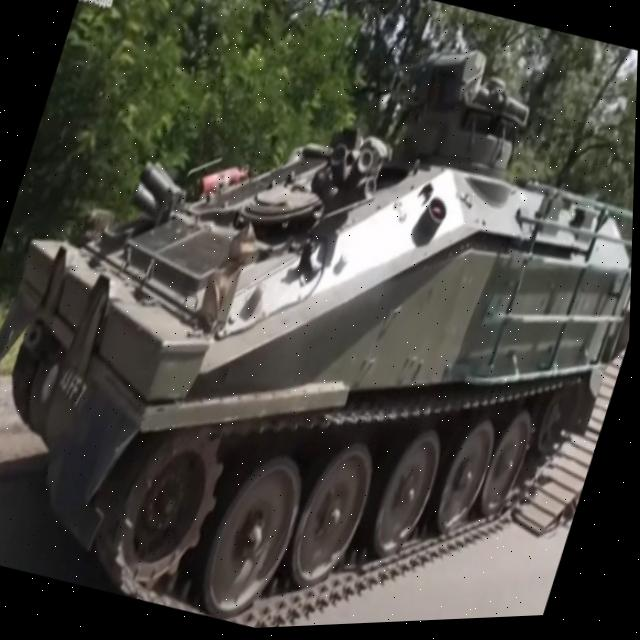MIL_APC: (0, 41, 639, 640)
